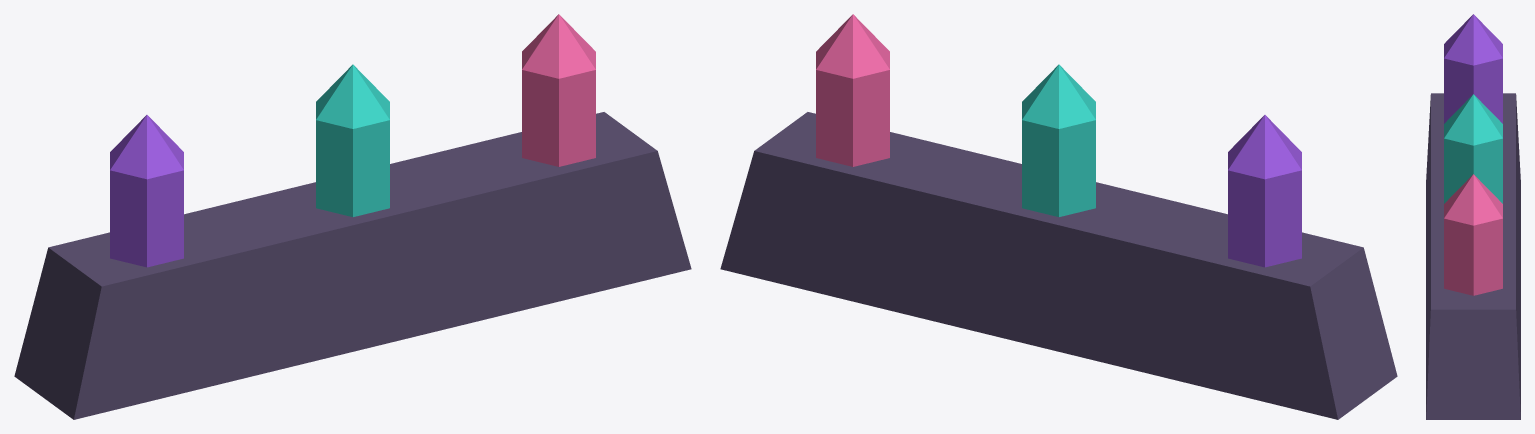
File: env_r12_crystal_post_row.glb
3 views of the same model, side by side, from view 1: azimuth 30°, elevation 25°; view 2: azimuth 150°, elevation 25°; view 3: azimuth 270°, elevation 25° (orthographic). The views are drawn at different scales.
Visible parts, largest first — view 1: env_r12_crystal_post_row; view 2: env_r12_crystal_post_row; view 3: env_r12_crystal_post_row.
Boxes of the visible parts, x1,y1,x2,y2 form: env_r12_crystal_post_row: [14, 14, 691, 419]; env_r12_crystal_post_row: [720, 14, 1397, 419]; env_r12_crystal_post_row: [1426, 14, 1520, 419].
Bounding box in the file's own units: 3 × 1.2 × 0.5.
1 material, 1 textured.
